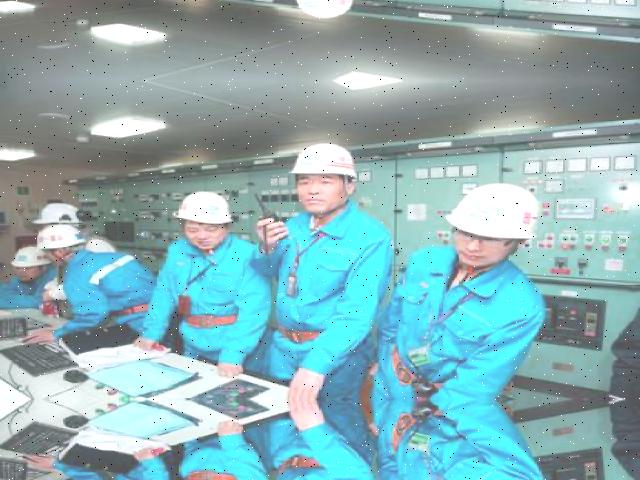Helmet: (434, 177, 550, 246), (292, 134, 364, 190), (167, 186, 244, 234), (35, 220, 94, 255), (38, 197, 85, 231)
